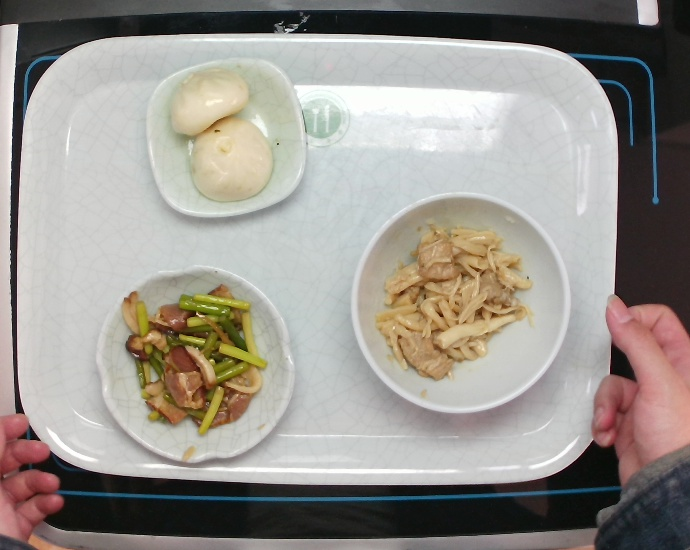JYsf-Ao_Yuan_Wan: (90, 260, 302, 467)
JYsf-Fan_Wan: (345, 188, 575, 419)
JYsf-Si_Fang_Die: (140, 51, 312, 222)
